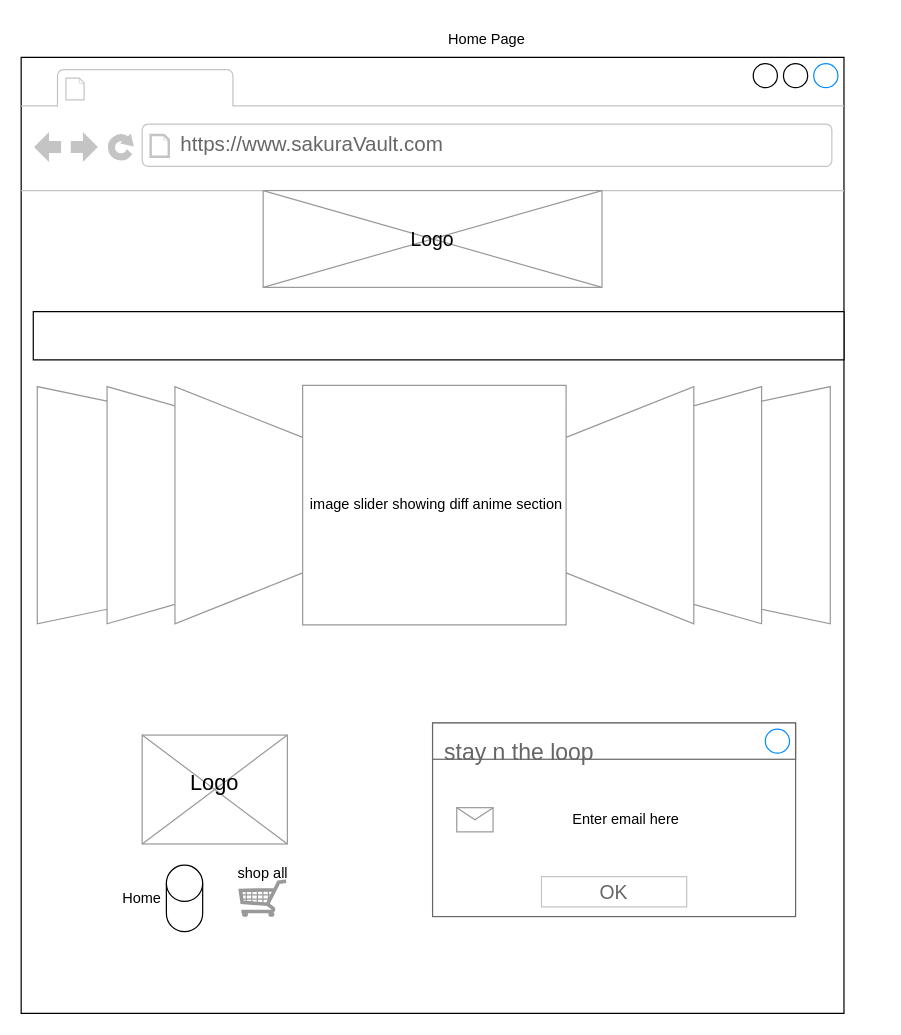
Some shapes in this 901 by 1035 pixel diagram are drawn without their labels. Here are the shapes that lost their labels. From the top down, the box of each, then its label:
(93, 71, 227, 103): SakuraVault
(32, 310, 844, 360): Nav Bar
